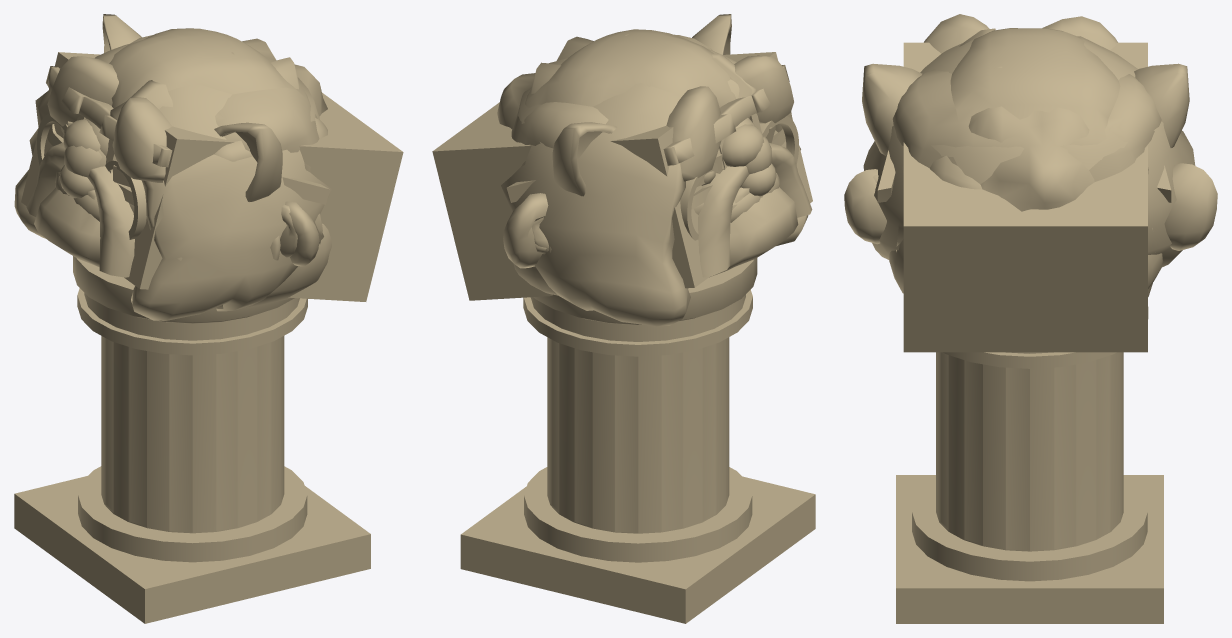
The model's file is ThroneRoom_Plinth.fbx.
3 views of the same model, side by side, from view 1: azimuth 30°, elevation 25°; view 2: azimuth 150°, elevation 25°; view 3: azimuth 270°, elevation 25° (orthographic). The views are drawn at different scales.
Visible parts, largest first — view 1: ThroneRoom_Plinth, Chef_Dora, Chef_Box, Chef_Boof, Chef_Beard, Chef_Gertie, Chef_Specs, Chef_BlackCat, Chef_Buck_Head, Chef_GingerCat; view 2: ThroneRoom_Plinth, Chef_Dora, Chef_Box, Chef_Boof, Chef_Beard, Chef_Gertie, Chef_BlackCat, Chef_Specs, Chef_Buck_Head, Chef_GingerCat; view 3: ThroneRoom_Plinth, Chef_Box, Chef_Boof, Chef_Dora, Chef_Buck_Head, Chef_Gertie, Chef_GingerCat, Chef_BlackCat, Chef_Specs.
Boxes of the visible parts, left/top/right/bottom form: ThroneRoom_Plinth: left=14, top=256, right=370, bottom=623; Chef_Dora: left=14, top=43, right=331, bottom=320; Chef_Box: left=21, top=52, right=403, bottom=301; Chef_Boof: left=109, top=28, right=319, bottom=260; Chef_Beard: left=26, top=119, right=134, bottom=277; Chef_Gertie: left=47, top=56, right=331, bottom=308; Chef_Specs: left=46, top=66, right=329, bottom=257; Chef_BlackCat: left=55, top=14, right=321, bottom=234; Chef_Buck_Head: left=110, top=38, right=327, bottom=161; Chef_GingerCat: left=103, top=15, right=322, bottom=244; ThroneRoom_Plinth: left=460, top=258, right=815, bottom=623; Chef_Dora: left=501, top=49, right=808, bottom=326; Chef_Box: left=432, top=52, right=812, bottom=300; Chef_Boof: left=511, top=29, right=735, bottom=252; Chef_Beard: left=698, top=124, right=812, bottom=277; Chef_Gertie: left=513, top=55, right=793, bottom=295; Chef_BlackCat: left=564, top=14, right=779, bottom=222; Chef_Specs: left=506, top=65, right=789, bottom=254; Chef_Buck_Head: left=497, top=34, right=756, bottom=128; Chef_GingerCat: left=552, top=15, right=730, bottom=196; ThroneRoom_Plinth: left=896, top=283, right=1163, bottom=623; Chef_Box: left=903, top=42, right=1147, bottom=352; Chef_Boof: left=892, top=28, right=1161, bottom=181; Chef_Dora: left=844, top=36, right=1217, bottom=267; Chef_Buck_Head: left=959, top=28, right=1094, bottom=211; Chef_Gertie: left=889, top=14, right=1163, bottom=293; Chef_GingerCat: left=862, top=68, right=1189, bottom=252; Chef_BlackCat: left=862, top=63, right=1189, bottom=243; Chef_Specs: left=877, top=150, right=1171, bottom=202.
Size of the model in its own units: 1.01 by 1.66 by 1.08.
